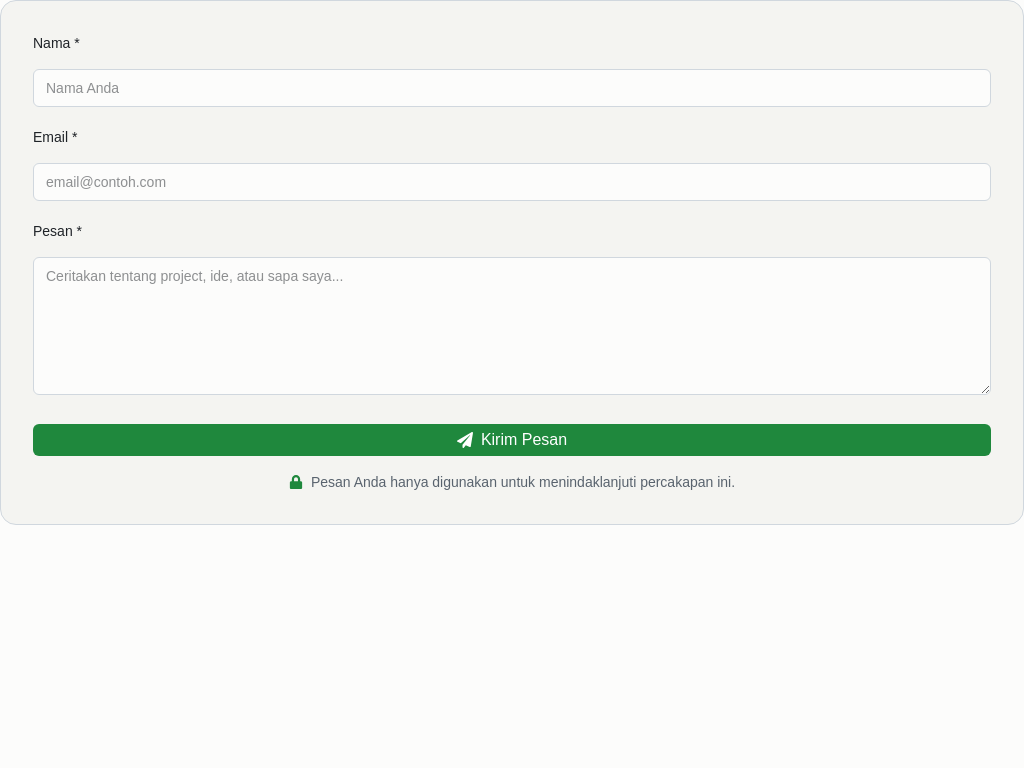
Test: ContactForm › keeps field values and displays Server Action validation errors
This screenshot has width=1024, height=768.
In the field labelled "Nama": {"x": 512, "y": 88} top-left (33, 69), bottom-right (991, 107), type "Julio"
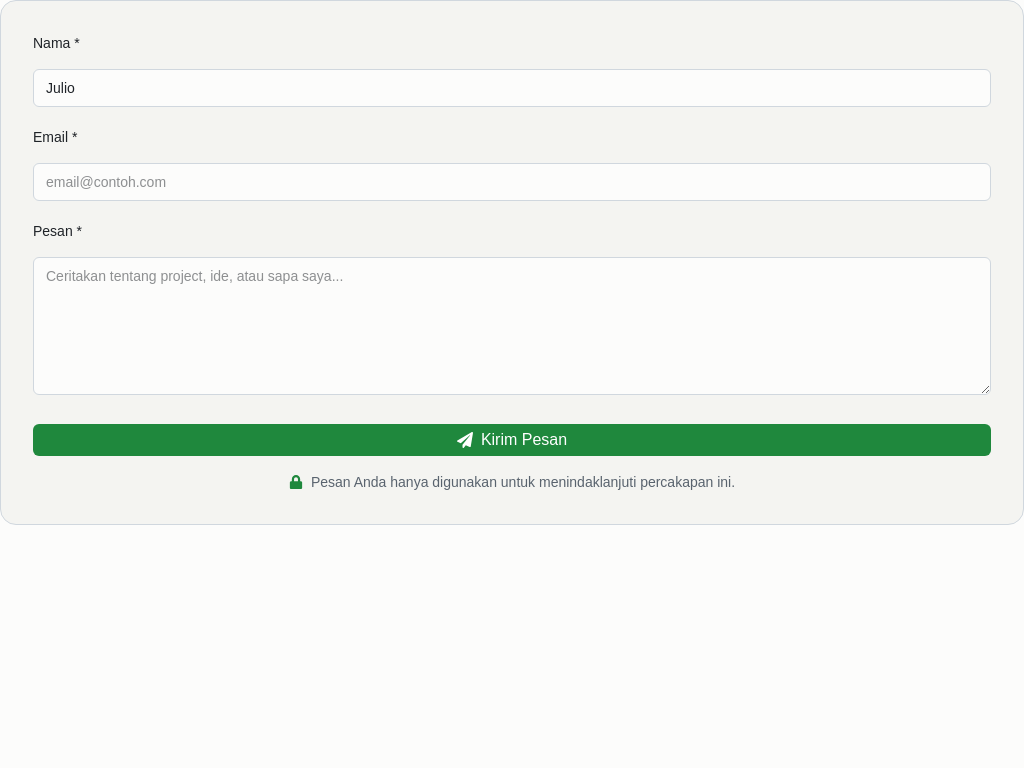
In the field labelled "email": {"x": 512, "y": 182} top-left (33, 163), bottom-right (991, 201), type "julio@example.com"
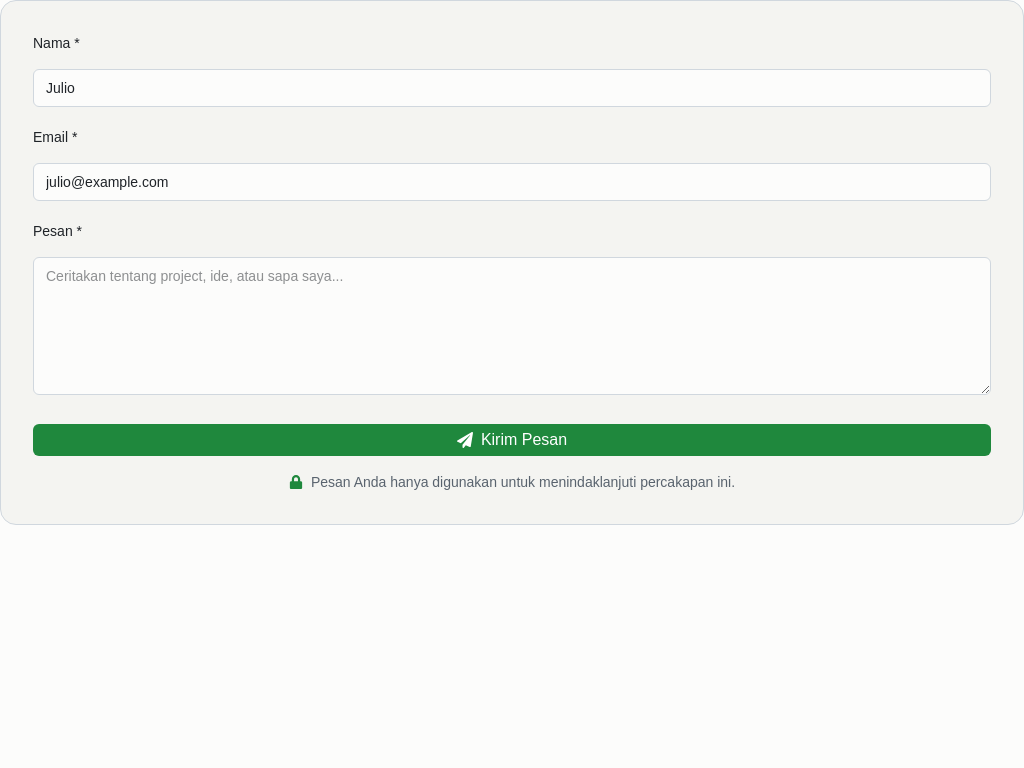
In the text box named "Pesan": {"x": 512, "y": 326} top-left (33, 257), bottom-right (991, 395), type "Halo"
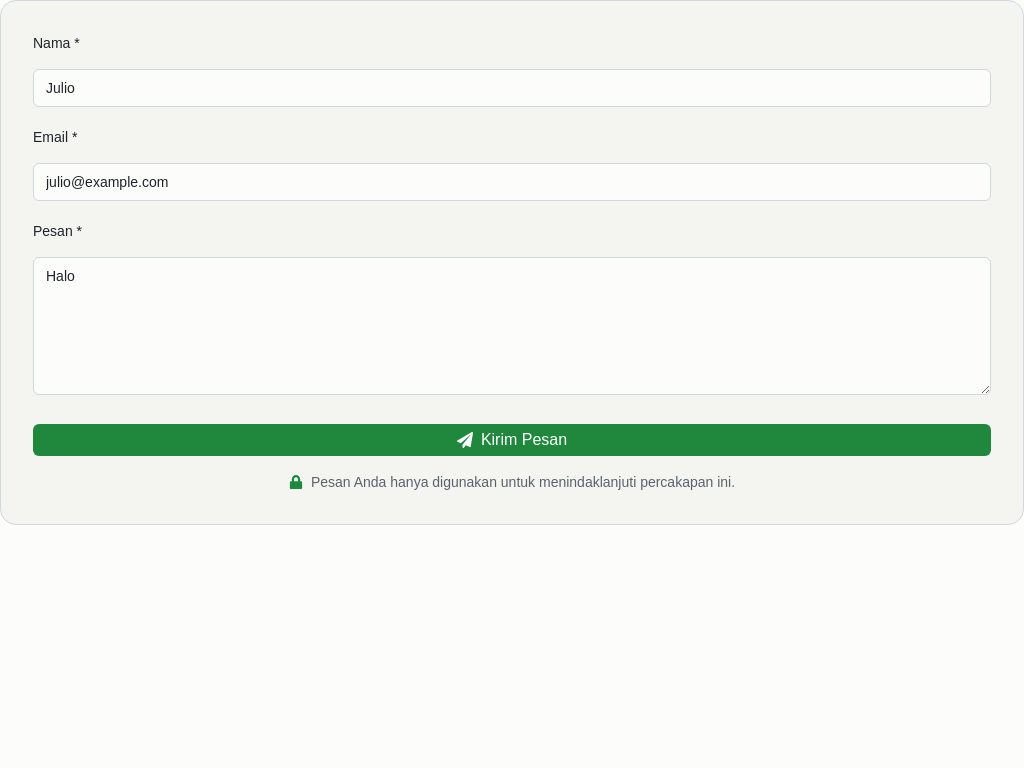
Submit the form "Kirim Pesan"
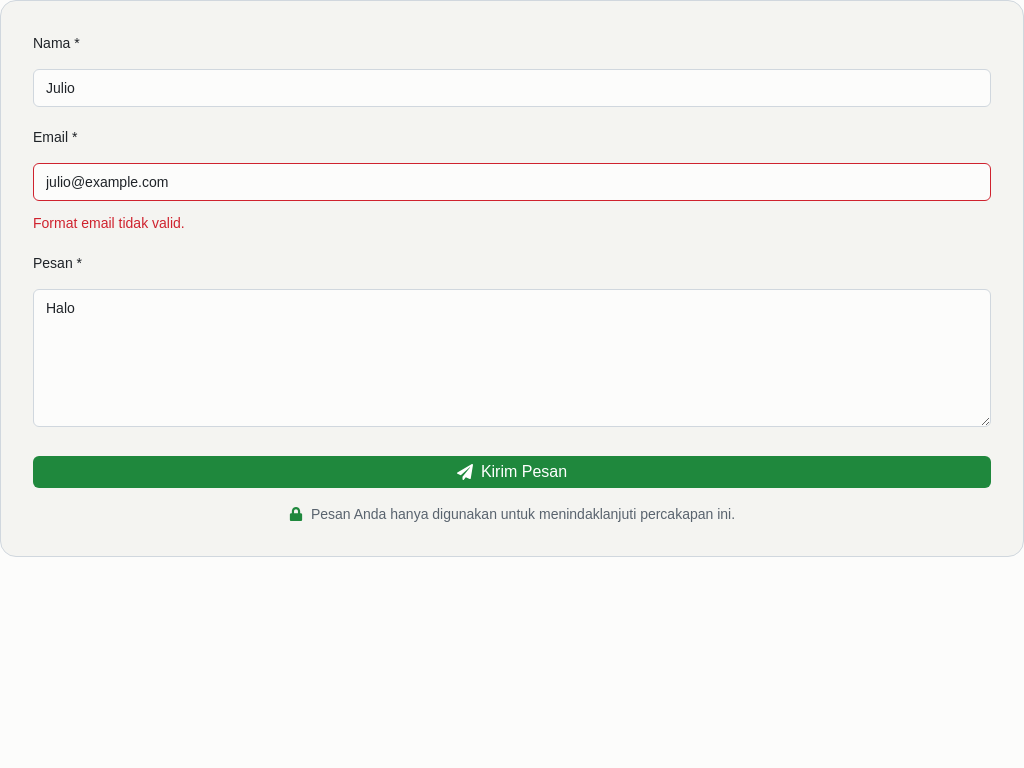
Check: the text "Format email tidak valid." is shown, box top-left (33, 215), bottom-right (185, 231)
